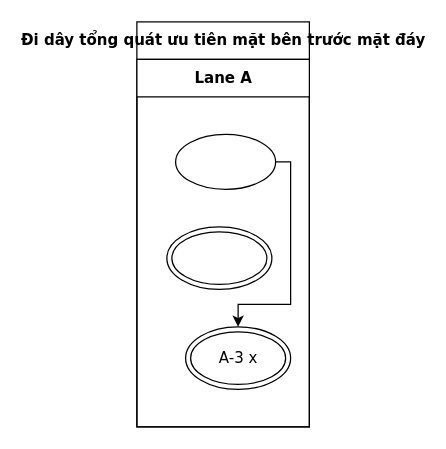
Some shapes in this 446 by 449 pixel diagram are drawn without their labels. The centre of each missing label's shape, as x and y in pixels:
A-1 x: point (225, 161)
A-2 x: point (219, 257)
